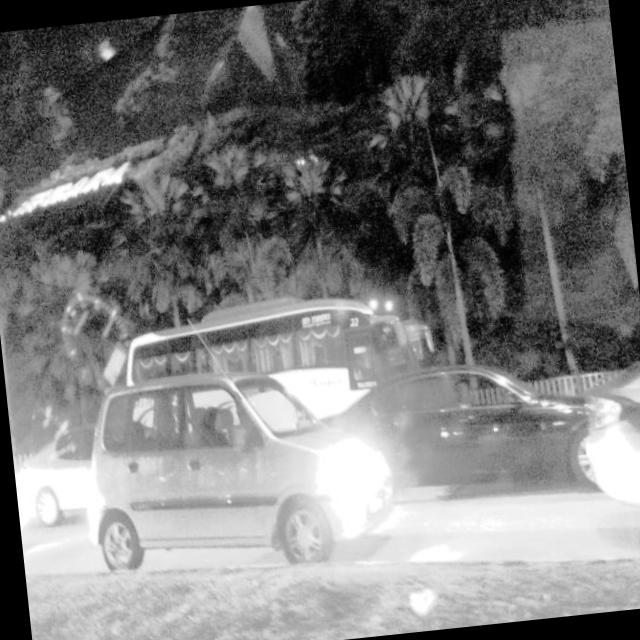Bus: (111, 259, 488, 497)
Car: (69, 357, 412, 622), (300, 337, 621, 554), (15, 400, 116, 537), (570, 313, 640, 510)
